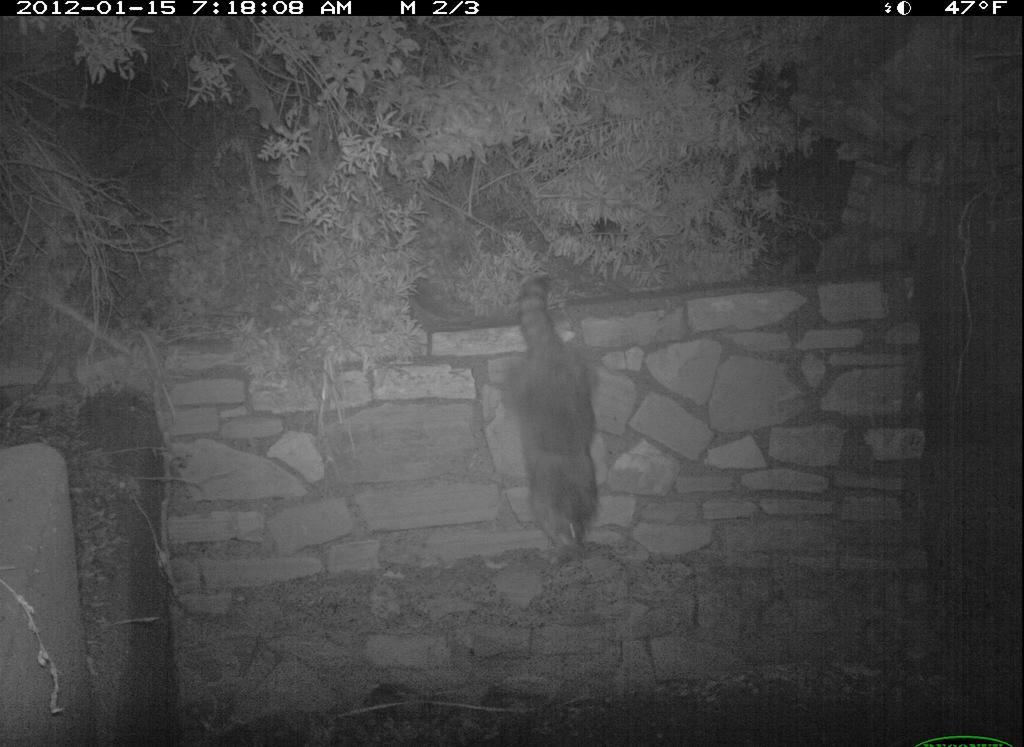raccoon: (495, 269, 625, 551)
